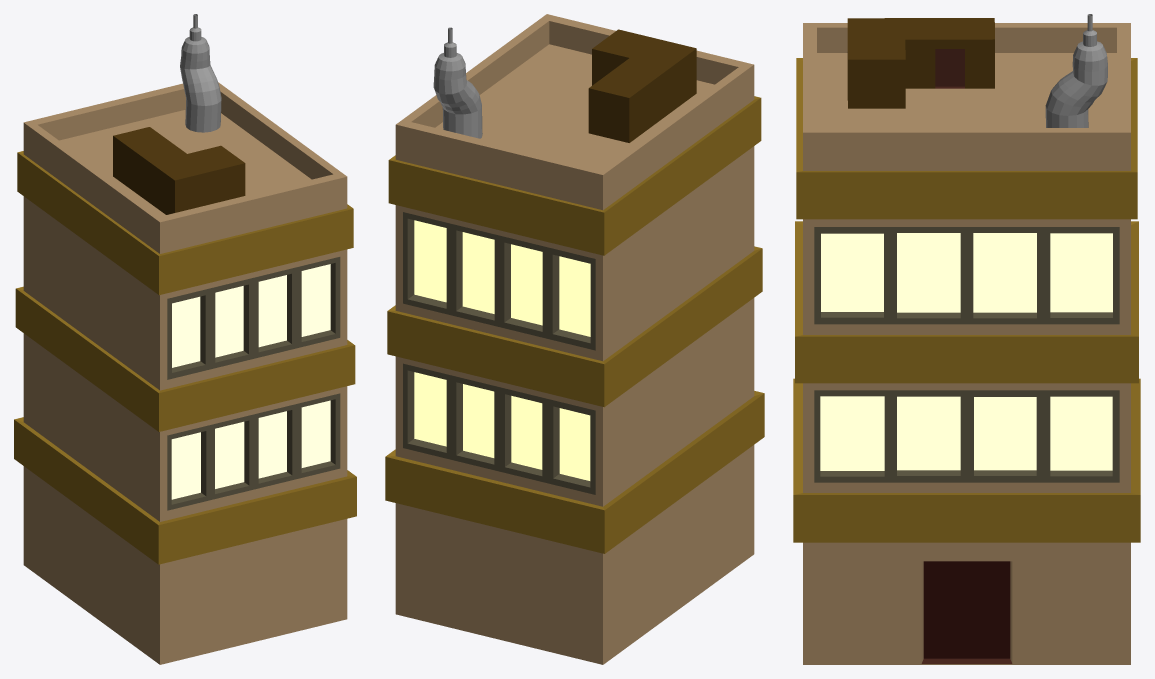
File: Back_building_2.fbx
The picture shows the model from 3 angles, left to right: view 1: azimuth 30°, elevation 25°; view 2: azimuth 150°, elevation 25°; view 3: azimuth 270°, elevation 25°; orthographic projection. The views are drawn at different scales.
Visible parts, largest first — view 1: Cube; view 2: Cube; view 3: Cube.
Part boxes in pixels (x1,y1,x2,y2): Cube: [14, 14, 356, 664]; Cube: [385, 14, 764, 664]; Cube: [793, 14, 1140, 664].
Bounding box in the file's own units: 330 × 835 × 417.
